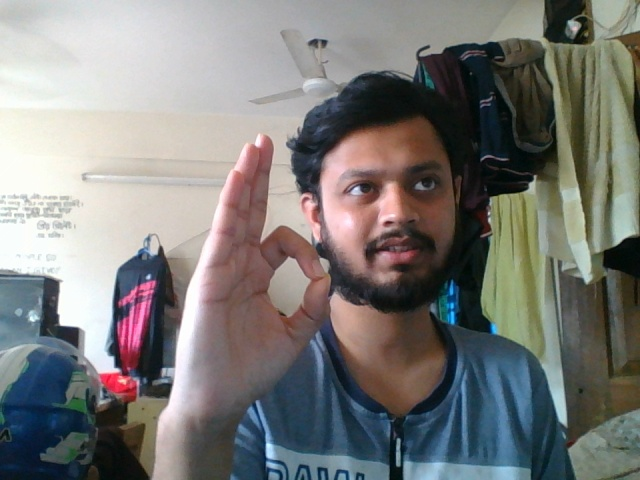ca: (163, 118, 336, 450)
